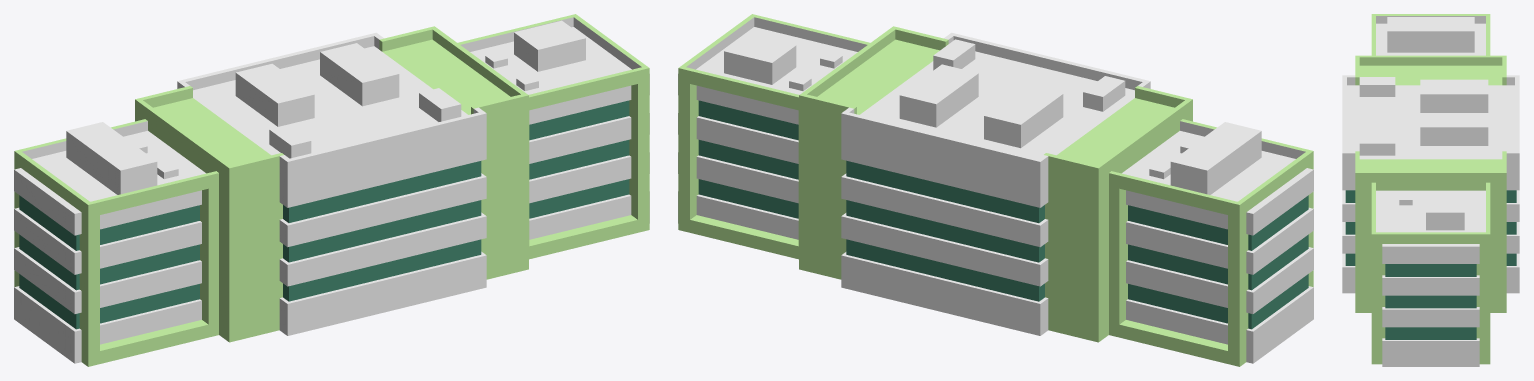
File: Town_Bld-PublicC.FBX
The picture shows the model from 3 angles, left to right: view 1: azimuth 30°, elevation 25°; view 2: azimuth 150°, elevation 25°; view 3: azimuth 270°, elevation 25°; orthographic projection. The views are drawn at different scales.
Visible parts, largest first — view 1: Town_Bld-PublicC; view 2: Town_Bld-PublicC; view 3: Town_Bld-PublicC.
Boxes of the visible parts, x1,y1,x2,y2 form: Town_Bld-PublicC: (14, 14, 649, 366); Town_Bld-PublicC: (678, 14, 1313, 366); Town_Bld-PublicC: (1342, 14, 1519, 366).
Size of the model in its own units: 2724 by 849 by 905.
